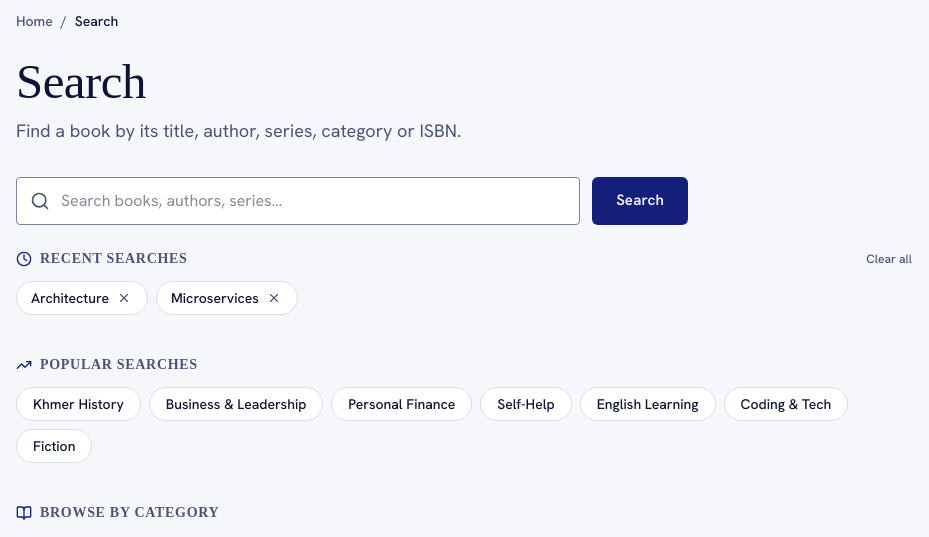
SearchPage › displays recent searches when available and allows clearing them
Check: the heading "Recent searches" is shown, box [16,249,188,269]
Check: the button "Architecture" is shown, box [31,288,109,308]
Click the button "Clear all" at (889, 259), box [866,251,912,267]
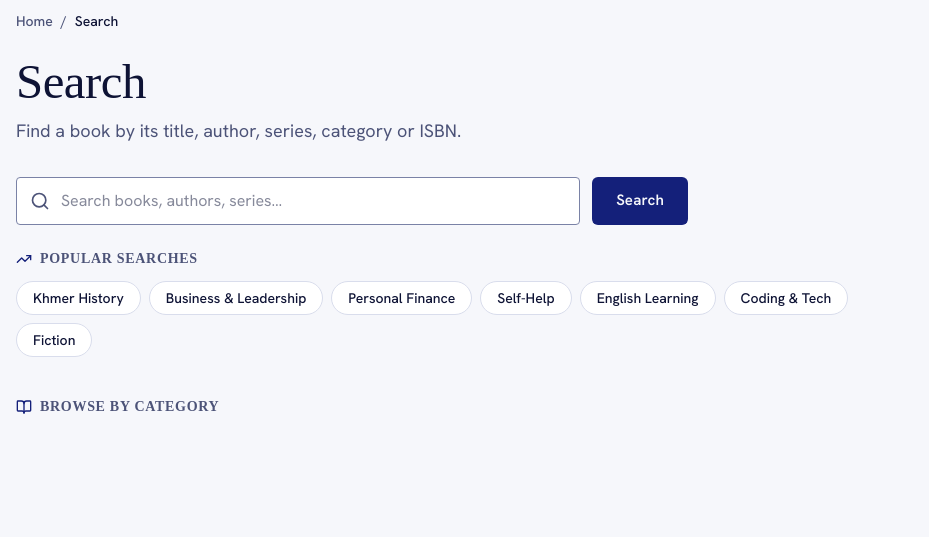
Check: the heading "Recent searches" is gone
